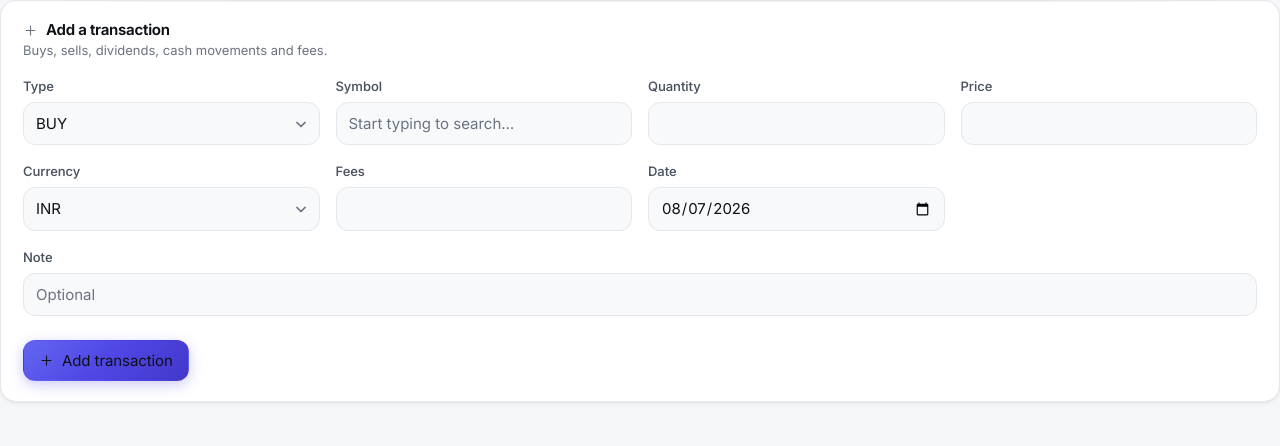
Test: AddTransactionForm › spreads a multi-field 400 across each field named in errors[]
This screenshot has width=1280, height=446.
Select "SELL" in the dropdown labelled "Type": (171, 124) [23,102,320,145]
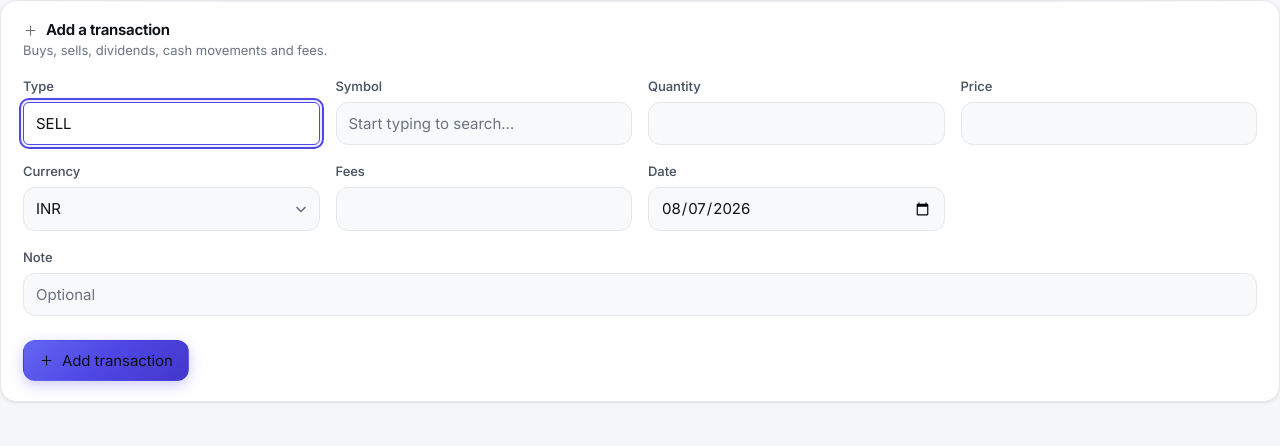
In the dropdown labelled "Symbol": (484, 124) [336,102,632,145], type "AAPL"
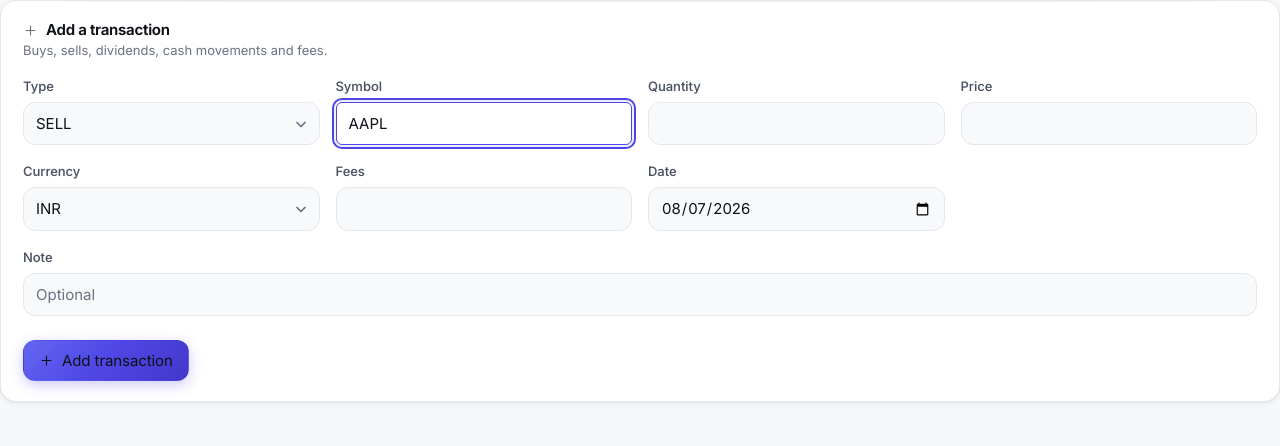
In the field labelled "Quantity": (796, 124) [648,102,944,145], type "50"
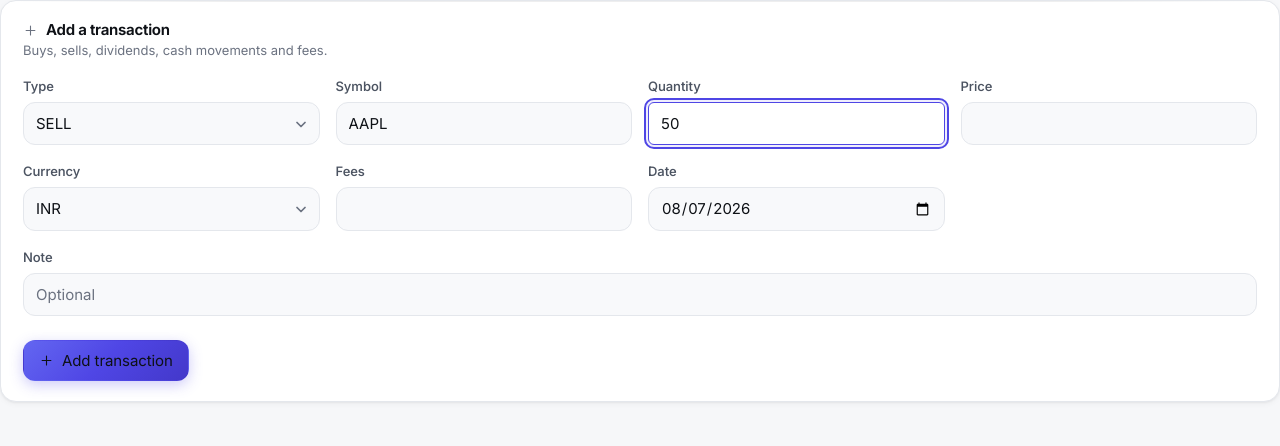
In the field labelled "Price": (1109, 124) [960,102,1257,145], type "228.10"
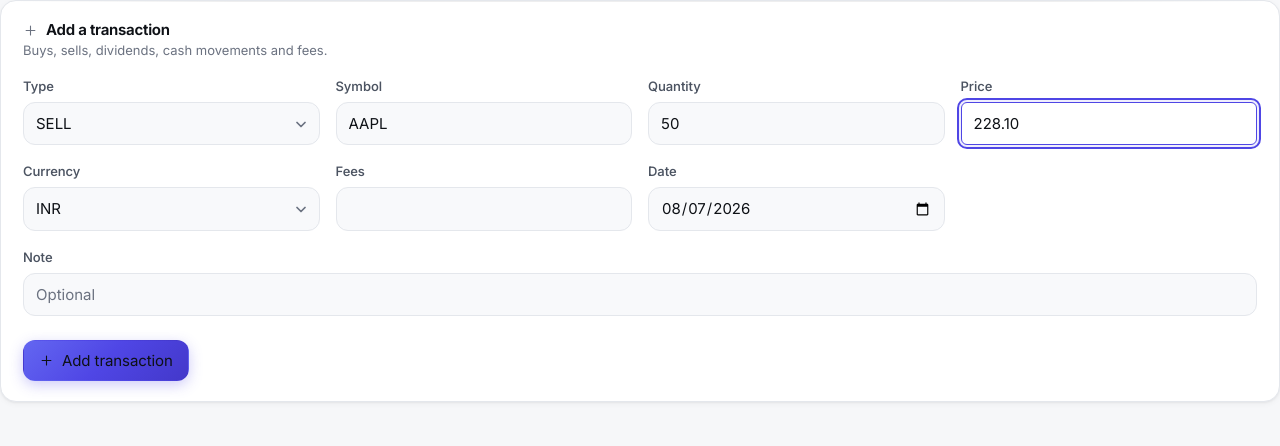
Click the button "Add transaction": (106, 361) [23,340,189,381]
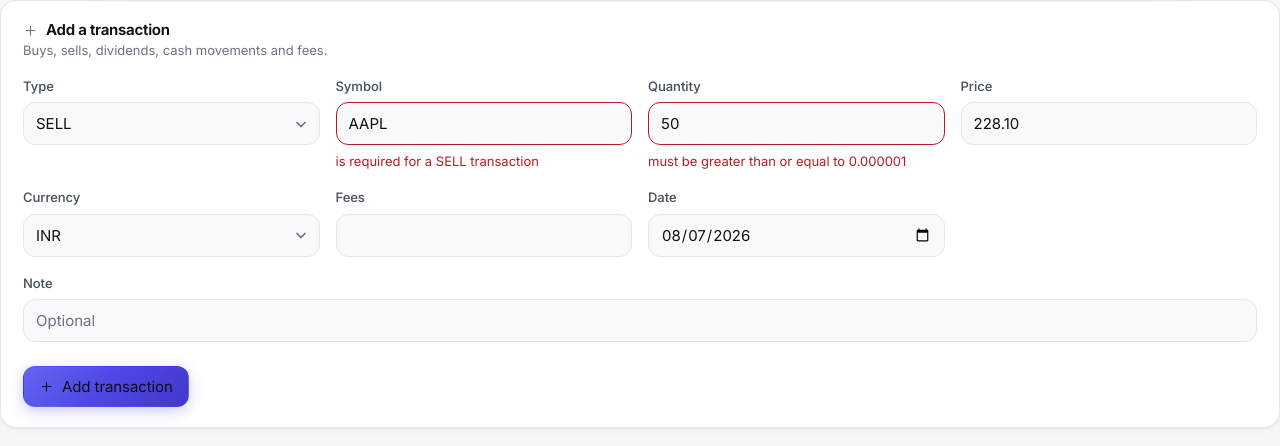
Check: the message "must be greater than or equal to 0.000001" is shown, box [648,151,944,171]
Check: the message "is required for a SELL transaction" is shown, box [336,153,539,169]
